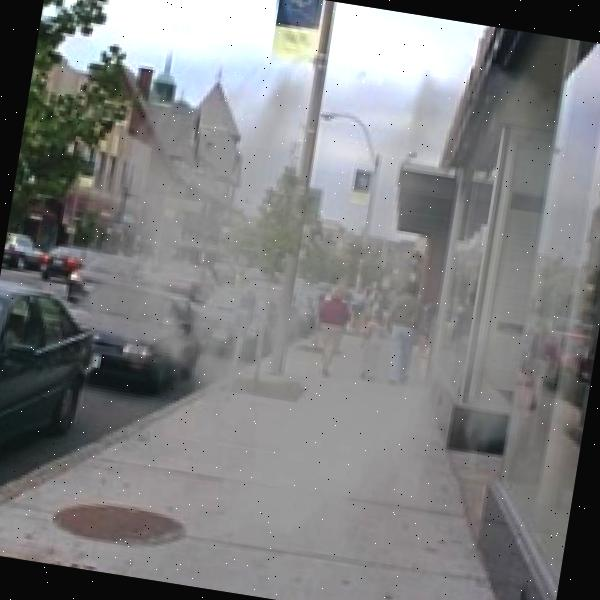smoke: (24, 0, 600, 600)
